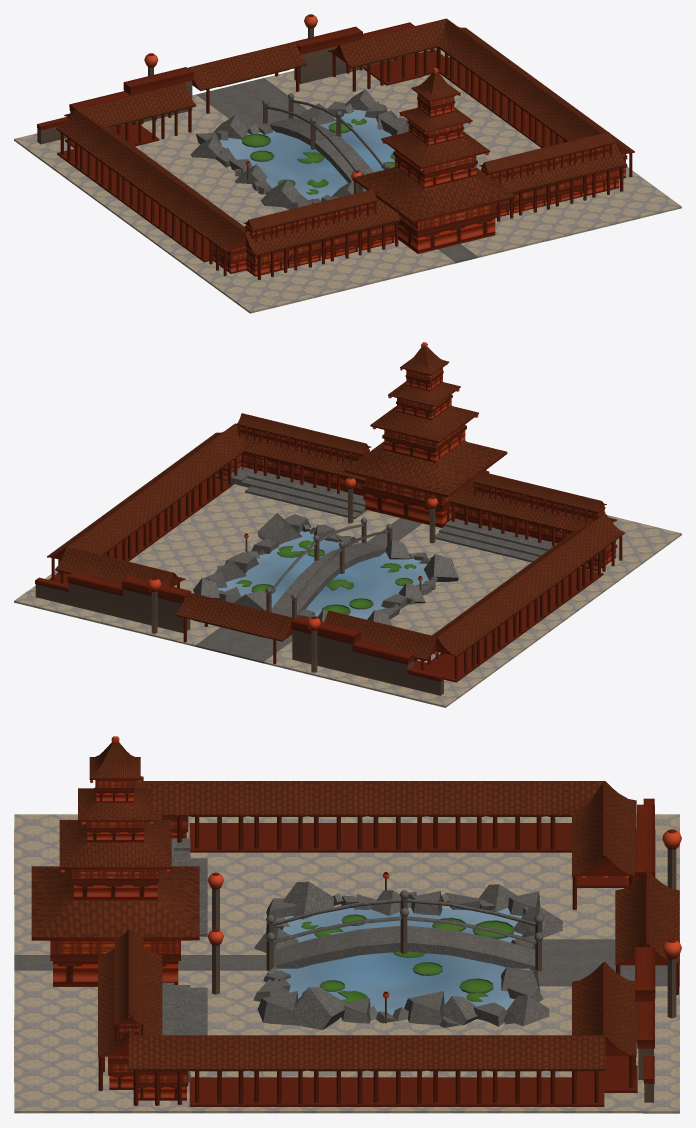
File: chinese_palace.glb
3 views of the same model, one above another, from view 1: azimuth 30°, elevation 25°; view 2: azimuth 150°, elevation 25°; view 3: azimuth 270°, elevation 25° (orthographic). The views are drawn at different scales.
Parts seen in each view (by area): view 1: polySurface859; view 2: polySurface859; view 3: polySurface859.
Part boxes in pixels (box(x1,y1,x2,y2)): polySurface859: box(14, 14, 681, 313); polySurface859: box(14, 342, 681, 707); polySurface859: box(14, 736, 681, 1113).
Size of the model in its own units: 0.1899 by 0.0758 by 0.1805.
Materials: 5 (5 with a texture image).
